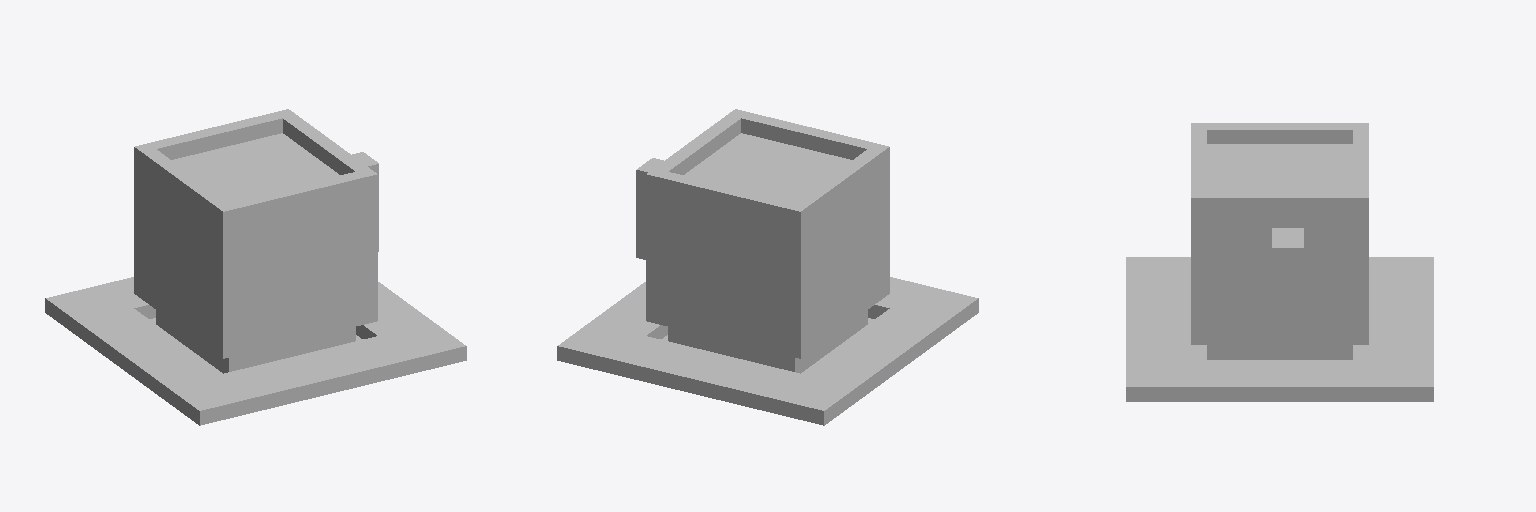
File: CoffeeCup.obj
3 views of the same model, side by side, from view 1: azimuth 30°, elevation 25°; view 2: azimuth 150°, elevation 25°; view 3: azimuth 270°, elevation 25° (orthographic).
Parts seen in each view (by area): view 1: object 1; view 2: object 1; view 3: object 1.
Part boxes in pixels (x1,y1,x2,y2): object 1: (45, 109, 466, 425); object 1: (557, 109, 978, 425); object 1: (1126, 123, 1433, 401).
Bounding box in the file's own units: 1.9 × 1.3 × 1.9.